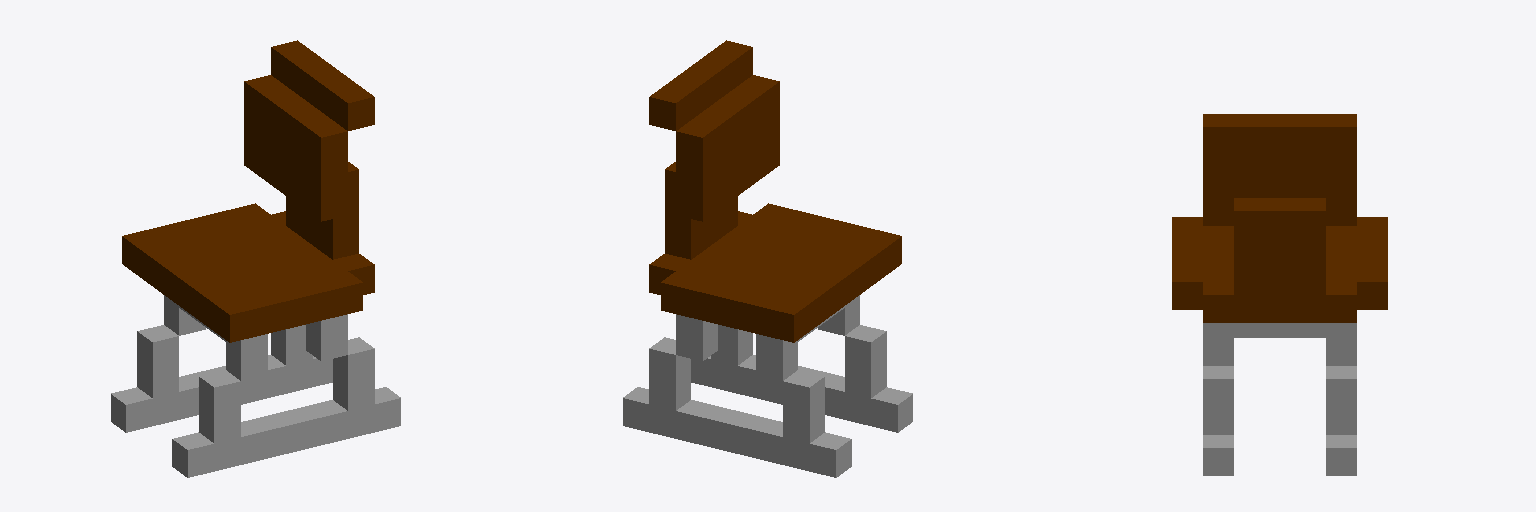
3 views of the same model, side by side, from view 1: azimuth 30°, elevation 25°; view 2: azimuth 150°, elevation 25°; view 3: azimuth 270°, elevation 25° (orthographic).
Parts seen in each view (by area): view 1: object 1; view 2: object 1; view 3: object 1.
Boxes of the visible parts, x1=… form: object 1: x1=111, y1=40, x2=400, y2=477; object 1: x1=623, y1=40, x2=912, y2=477; object 1: x1=1172, y1=114, x2=1387, y2=475.
Bounding box in the file's own units: 0.8 × 1.2 × 0.7.
1 materials, 1 textured.